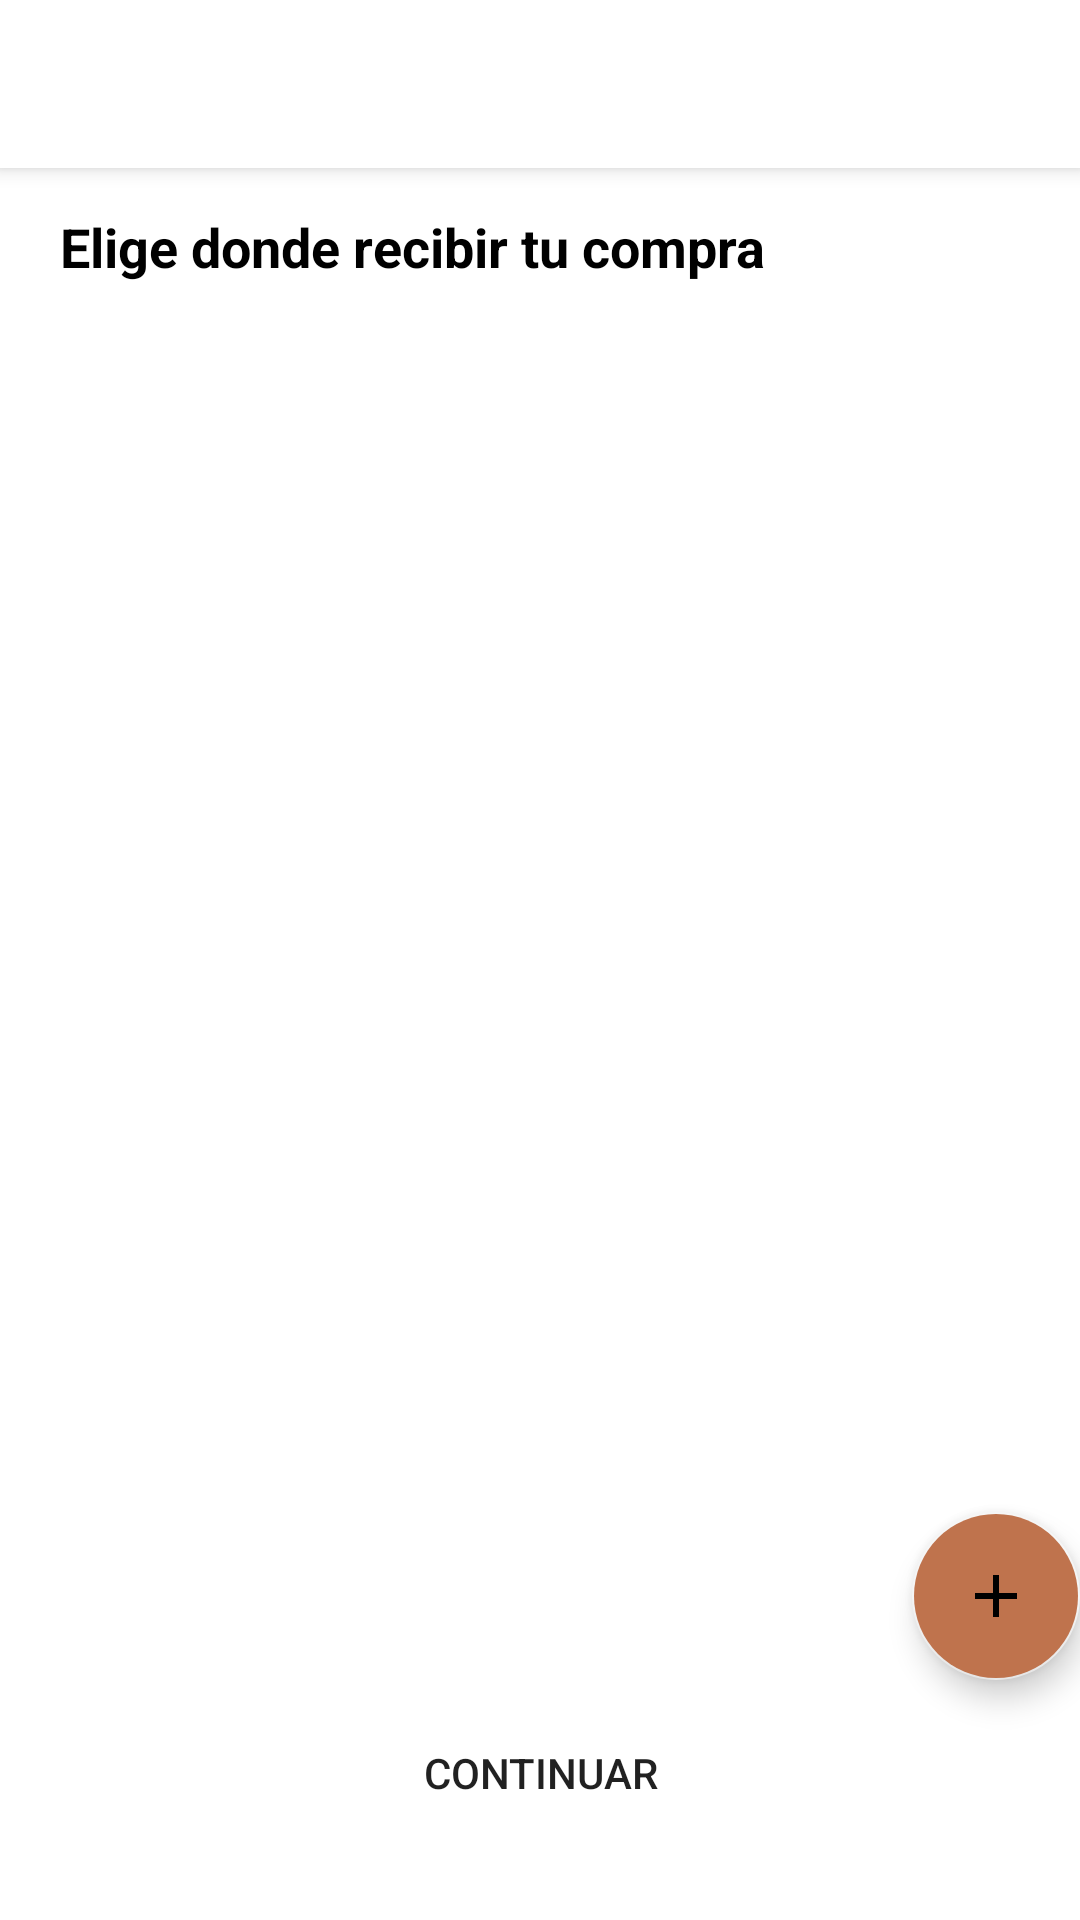

Icons on this 1080x1920 Android screen, each with the point to tap as (x,y):
add simple: (997,1597)
